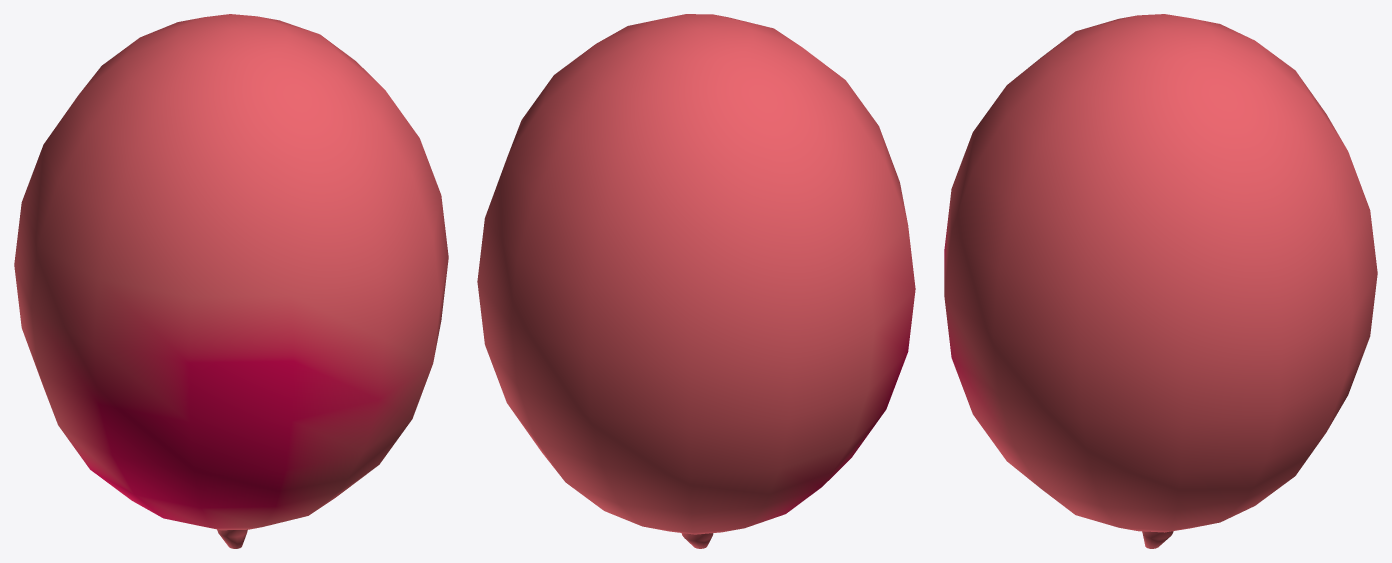
Rendered from balloon.fbx.
3 views of the same model, side by side, from view 1: azimuth 30°, elevation 25°; view 2: azimuth 150°, elevation 25°; view 3: azimuth 270°, elevation 25° (orthographic).
Visible parts, largest first — view 1: Sphere; view 2: Sphere; view 3: Sphere.
Boxes of the visible parts, bbox=[...] form: Sphere: bbox=[14, 14, 448, 548]; Sphere: bbox=[477, 14, 915, 548]; Sphere: bbox=[944, 14, 1377, 548].
Size of the model in its own units: 32.42 by 42.32 by 32.19.
